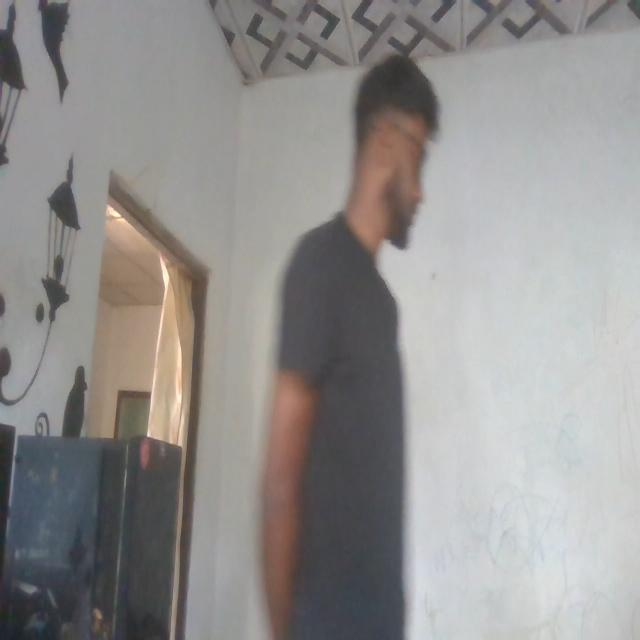Person: (254, 39, 440, 630)
